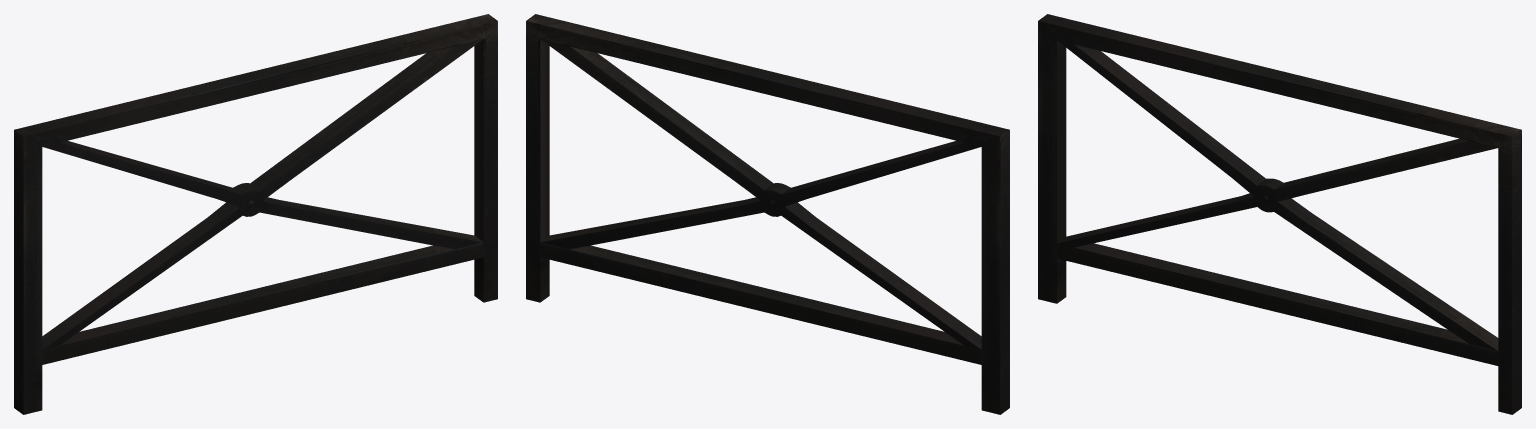
Rendered from Rembarde.fbx.
The picture shows the model from 3 angles, left to right: view 1: azimuth 30°, elevation 25°; view 2: azimuth 150°, elevation 25°; view 3: azimuth 330°, elevation 25°; orthographic projection.
Visible parts, largest first — view 1: Rembarde; view 2: Rembarde; view 3: Rembarde.
Part boxes in pixels (bbox=[...]): Rembarde: bbox=[14, 14, 497, 414]; Rembarde: bbox=[526, 14, 1009, 414]; Rembarde: bbox=[1038, 14, 1521, 414].
Size of the model in its own units: 1.8 by 0.0614 by 1.01.
1 material, 1 textured.
